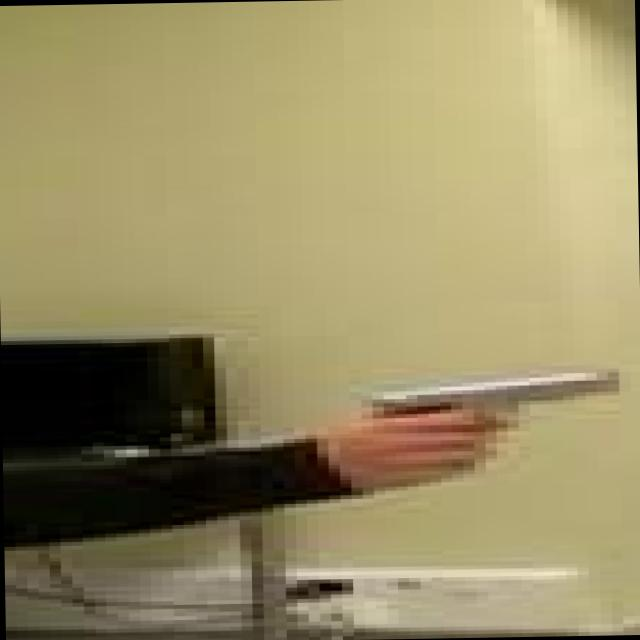Guns: (295, 352, 638, 490)
